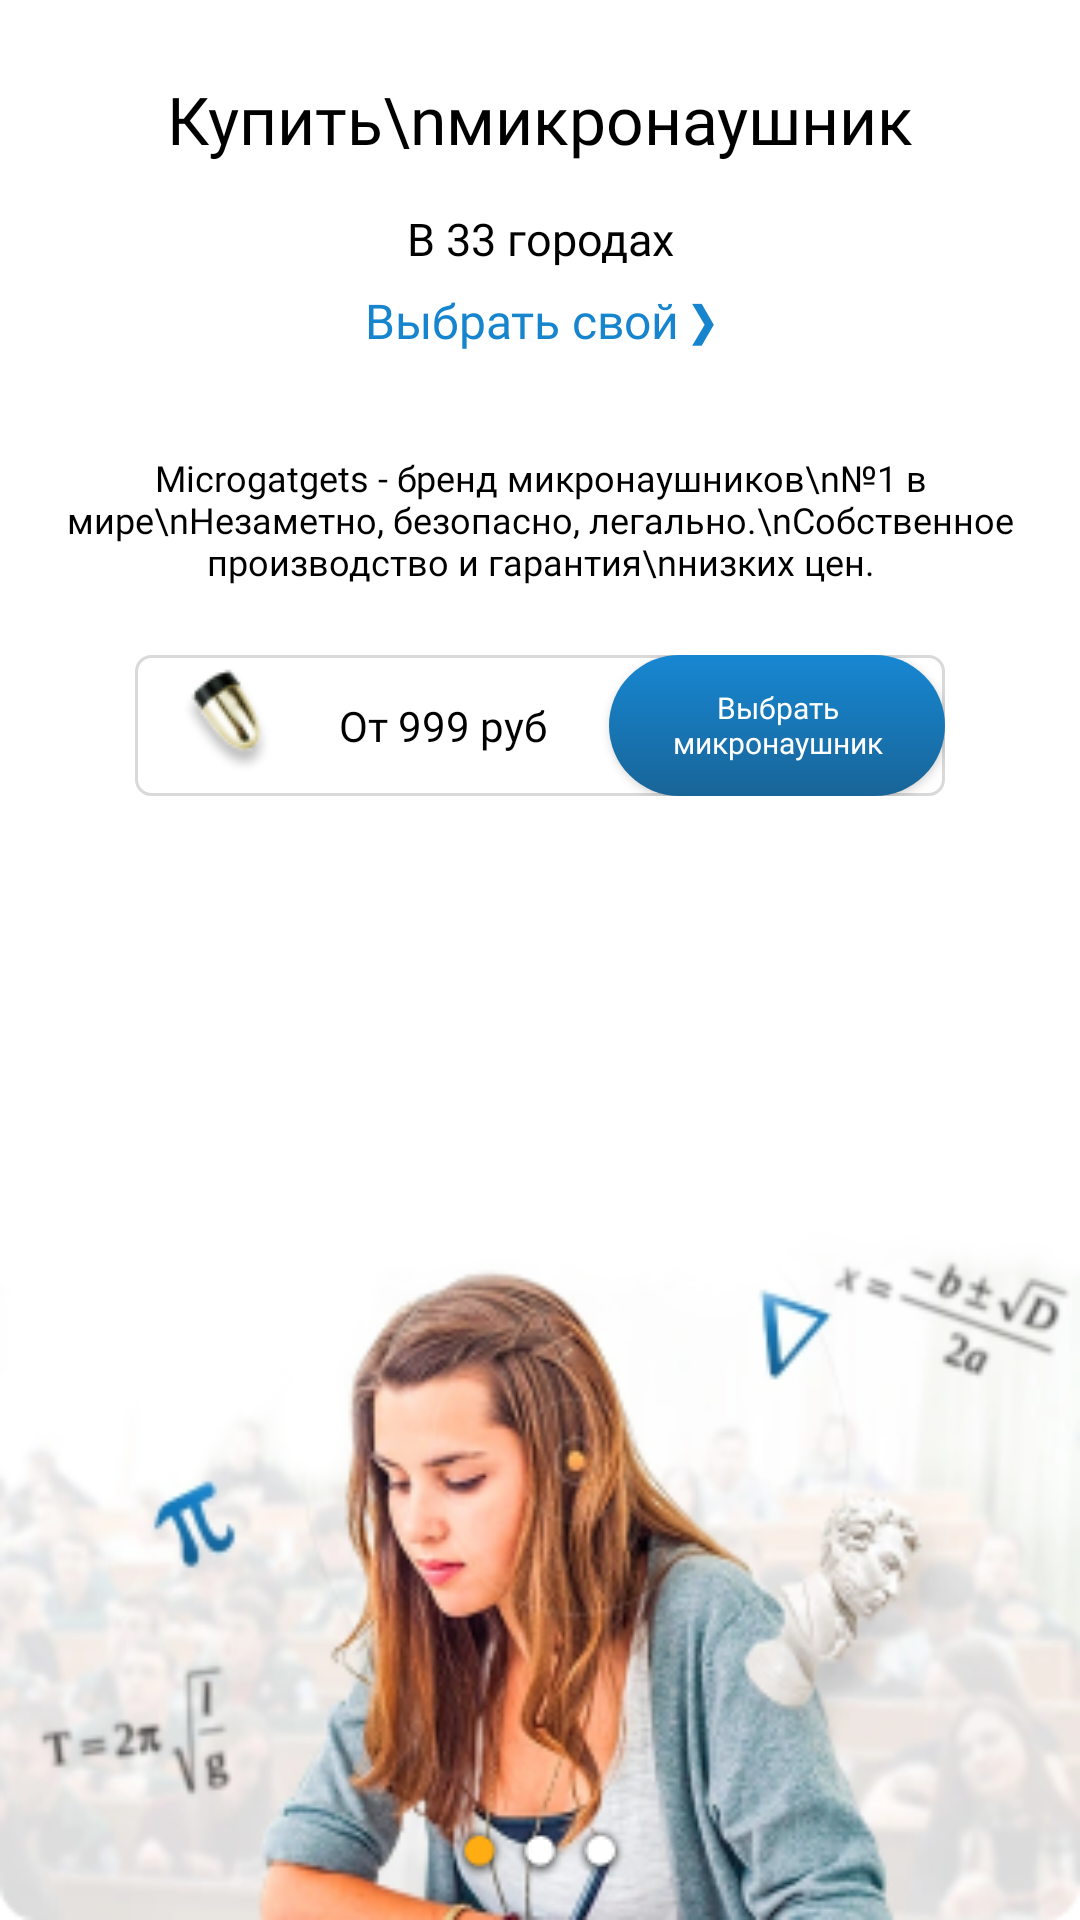

Screen size 1080x1920. Icon name, then its center in pixels as [x,y]:
earphone capsule: [227,716]
slider threedot: [540,1854]
